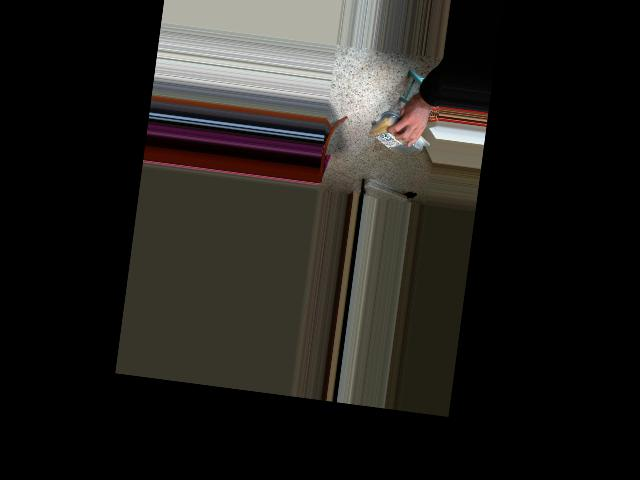cheese: (362, 116, 428, 153)
